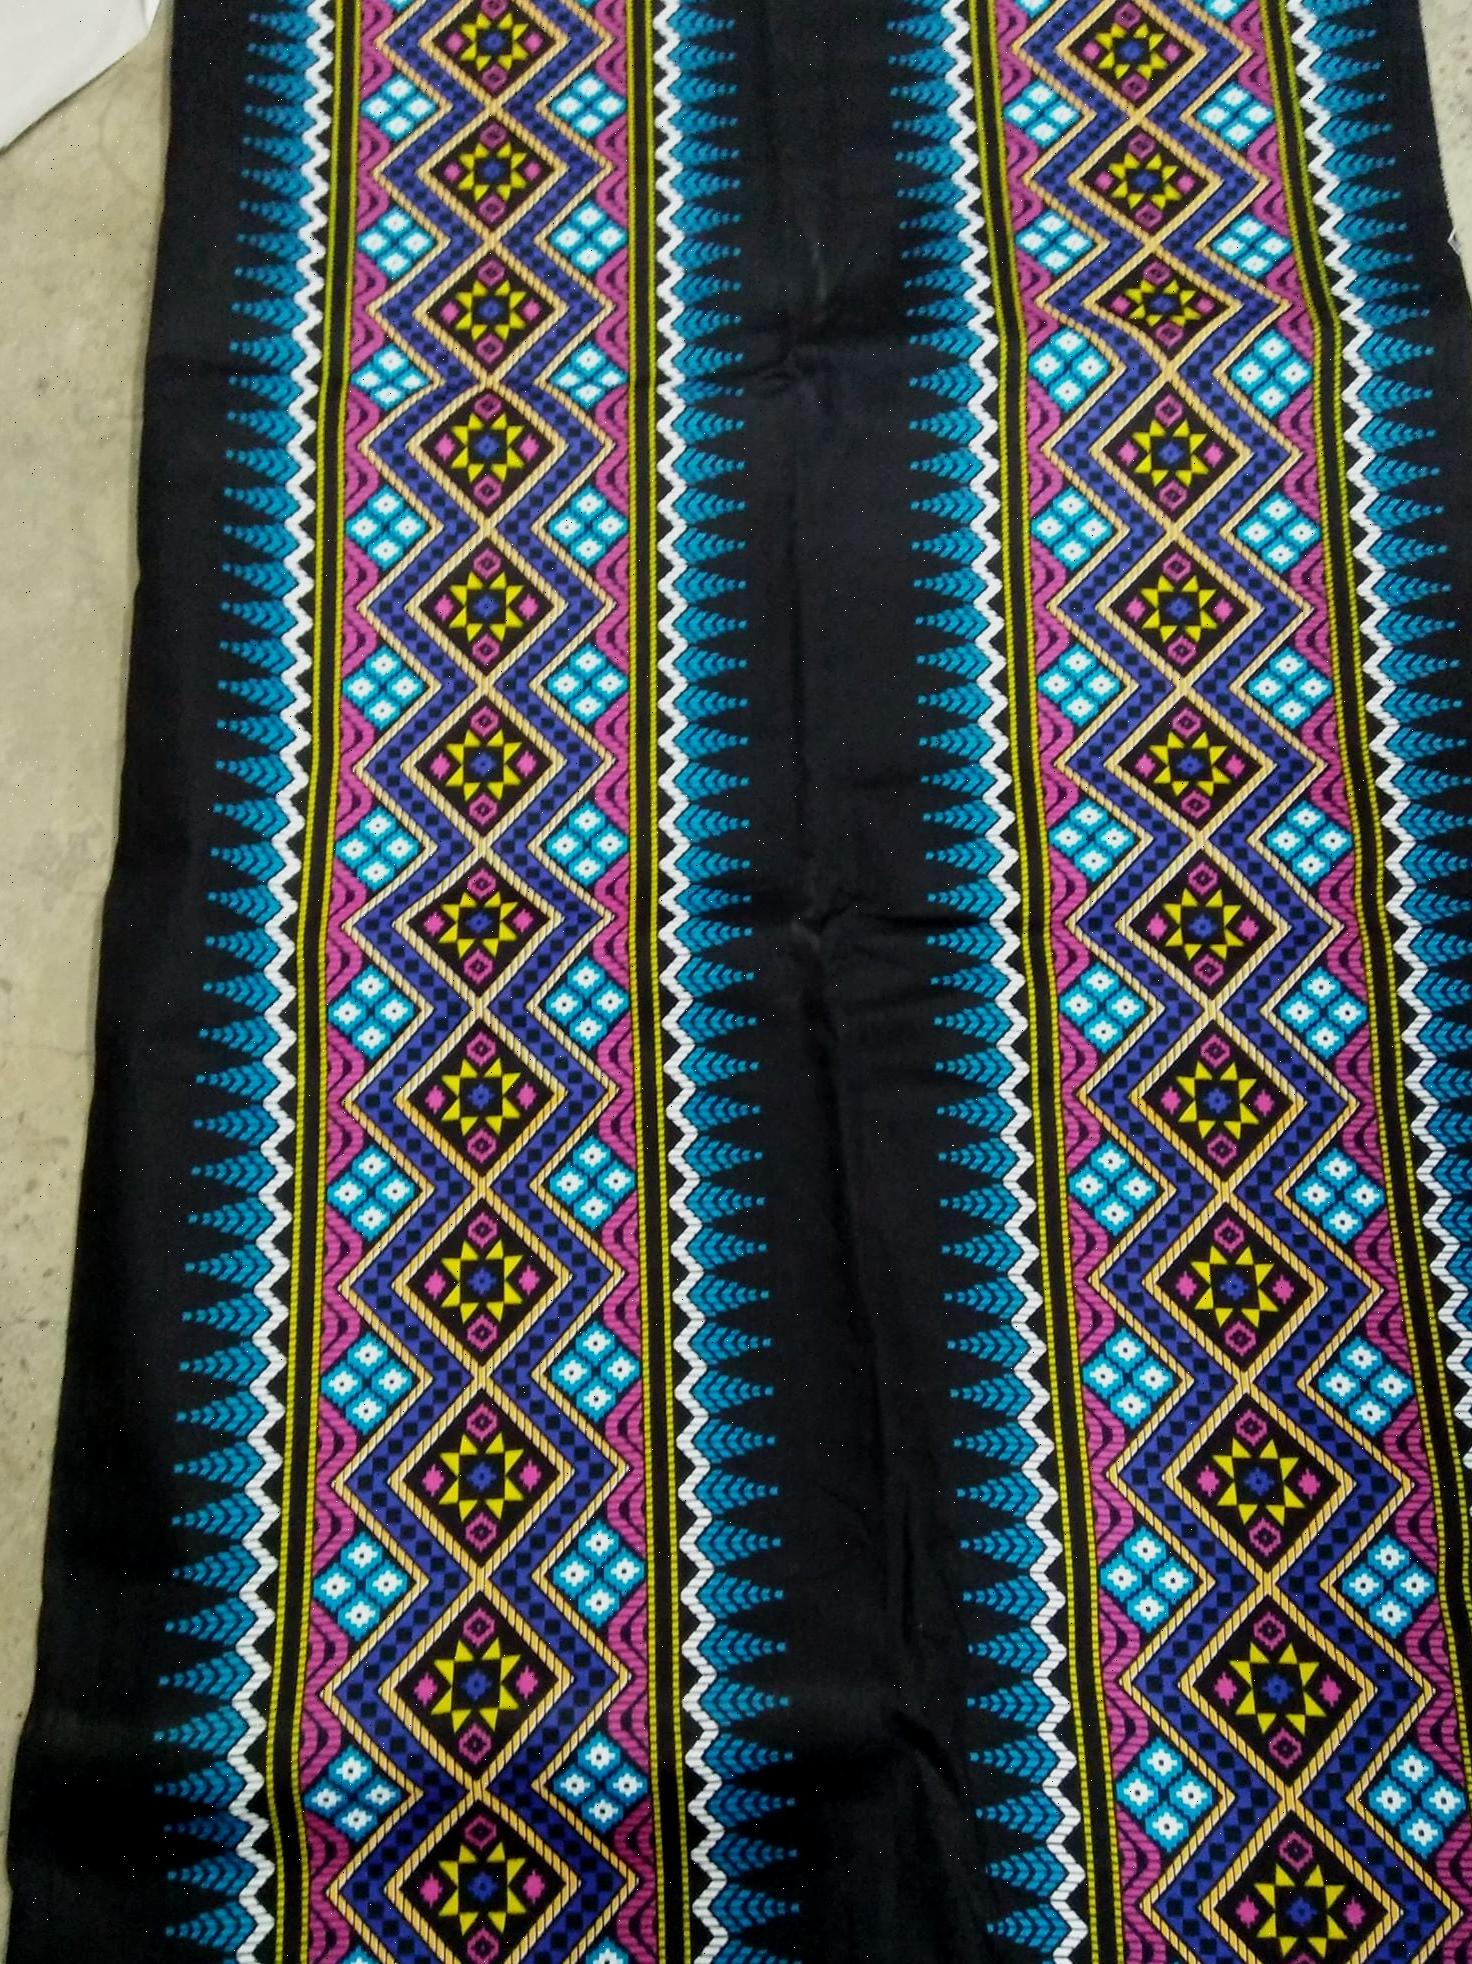malong: (76, 0, 1472, 1964)
